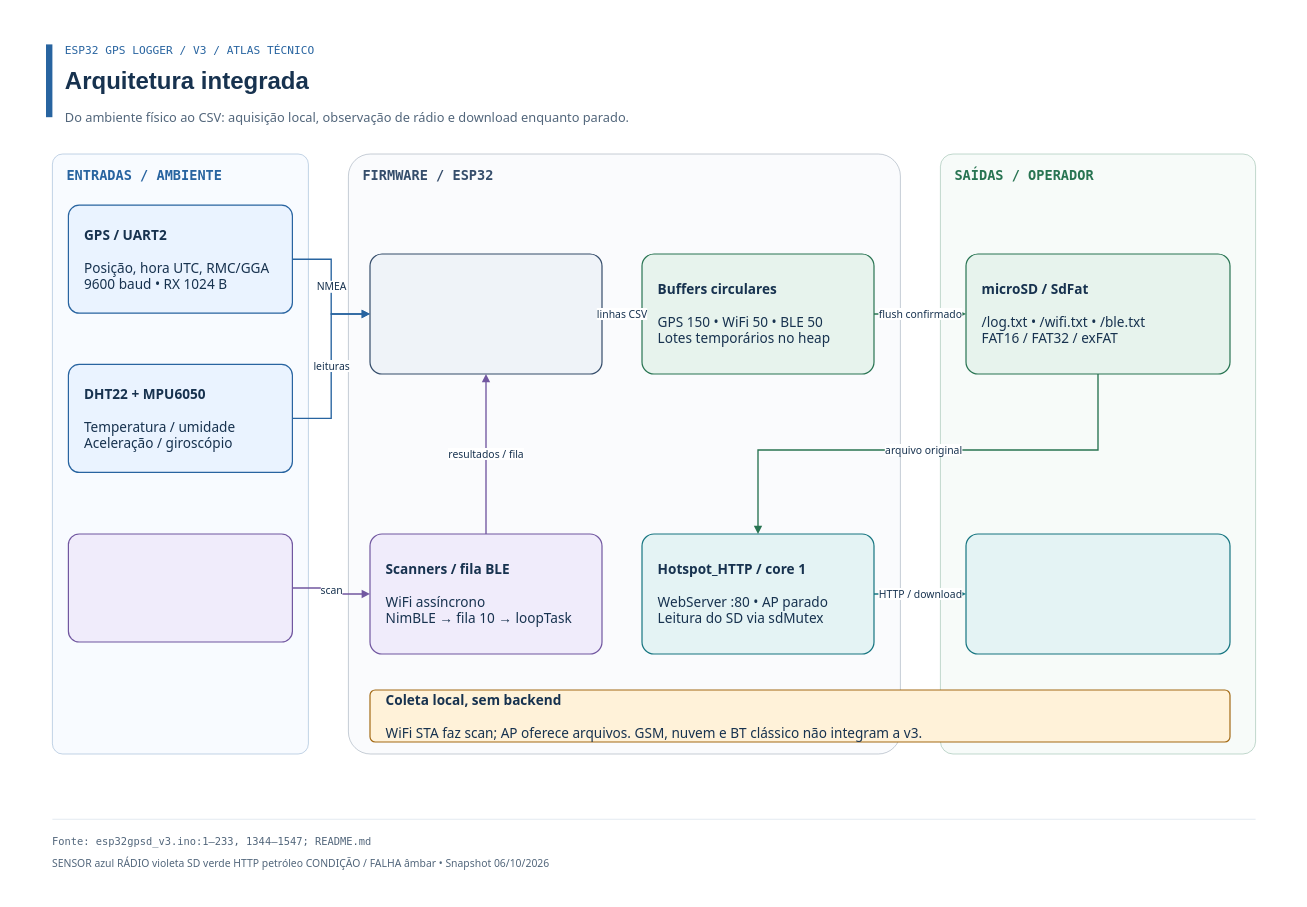
This 1307x907 diagram has some shape labels left out. The shapes that lost their labels are listed below. From the top down, each one's centre as x and y in pixels, then its label:
the point at 485,313: loopTask / core 1 Parser + sensores + modos Consumo BLE e escrita SD
the point at 180,587: Redes WiFi + BLE Observação de redes e anúncios Scans coordenados por modo
the point at 1097,593: Celular / computador 192.168.4.1 Atualizar página / baixar logs
